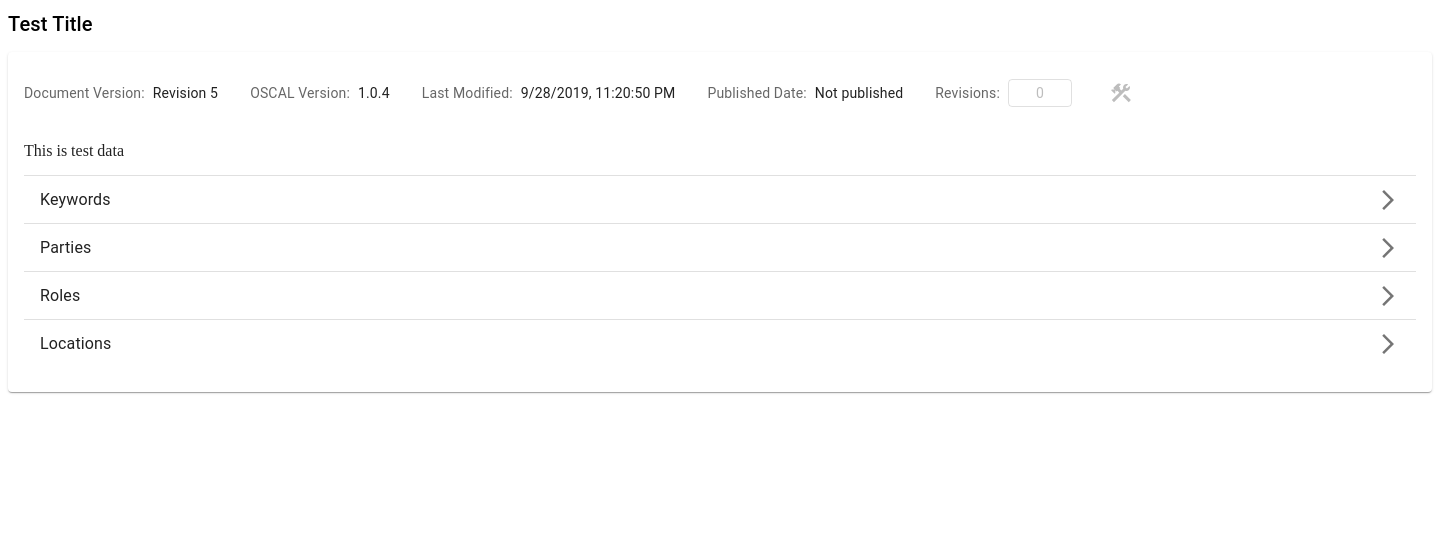
it: OSCAL metadata roles › displays role title
Step 1. Click the button "Roles" → (60,296), box [40,284,1400,308]
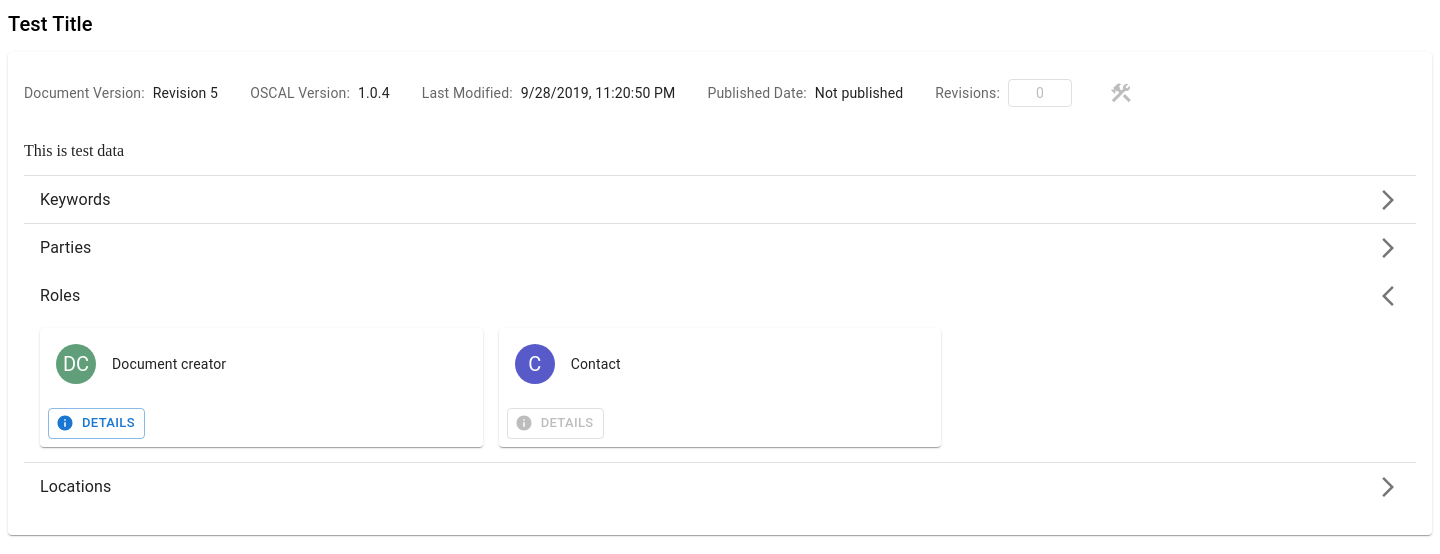
Result: the text "Document creator" is shown at [112,356,226,372]
Result: the text "Contact" is shown at [571,356,621,372]
